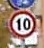limite 10: (6, 9, 36, 36)
